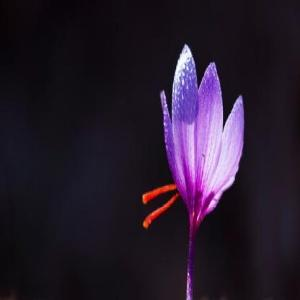Saffron: (160, 39, 247, 255)
